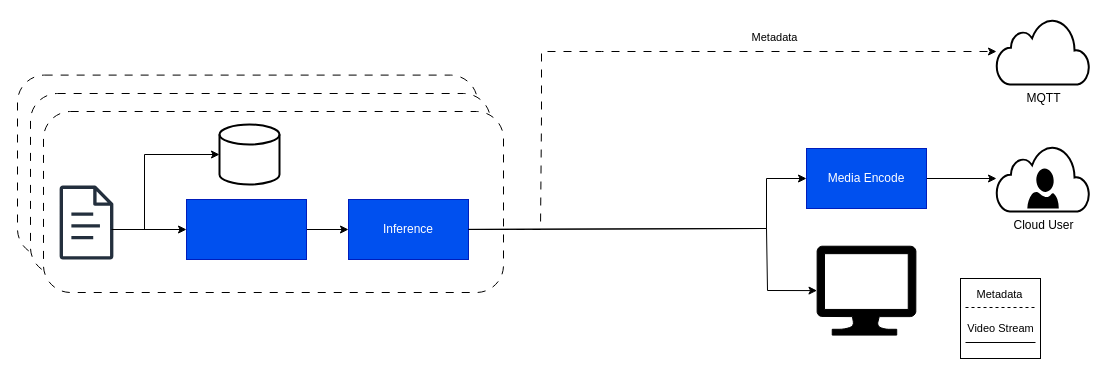
This 1108x376 diagram has some shape labels left out. Here are the shapes that lost their labels. From the top down, the centre of each, then its label:
At pixel 249 154: "Storage".
At pixel 246 229: "Media Decode".
